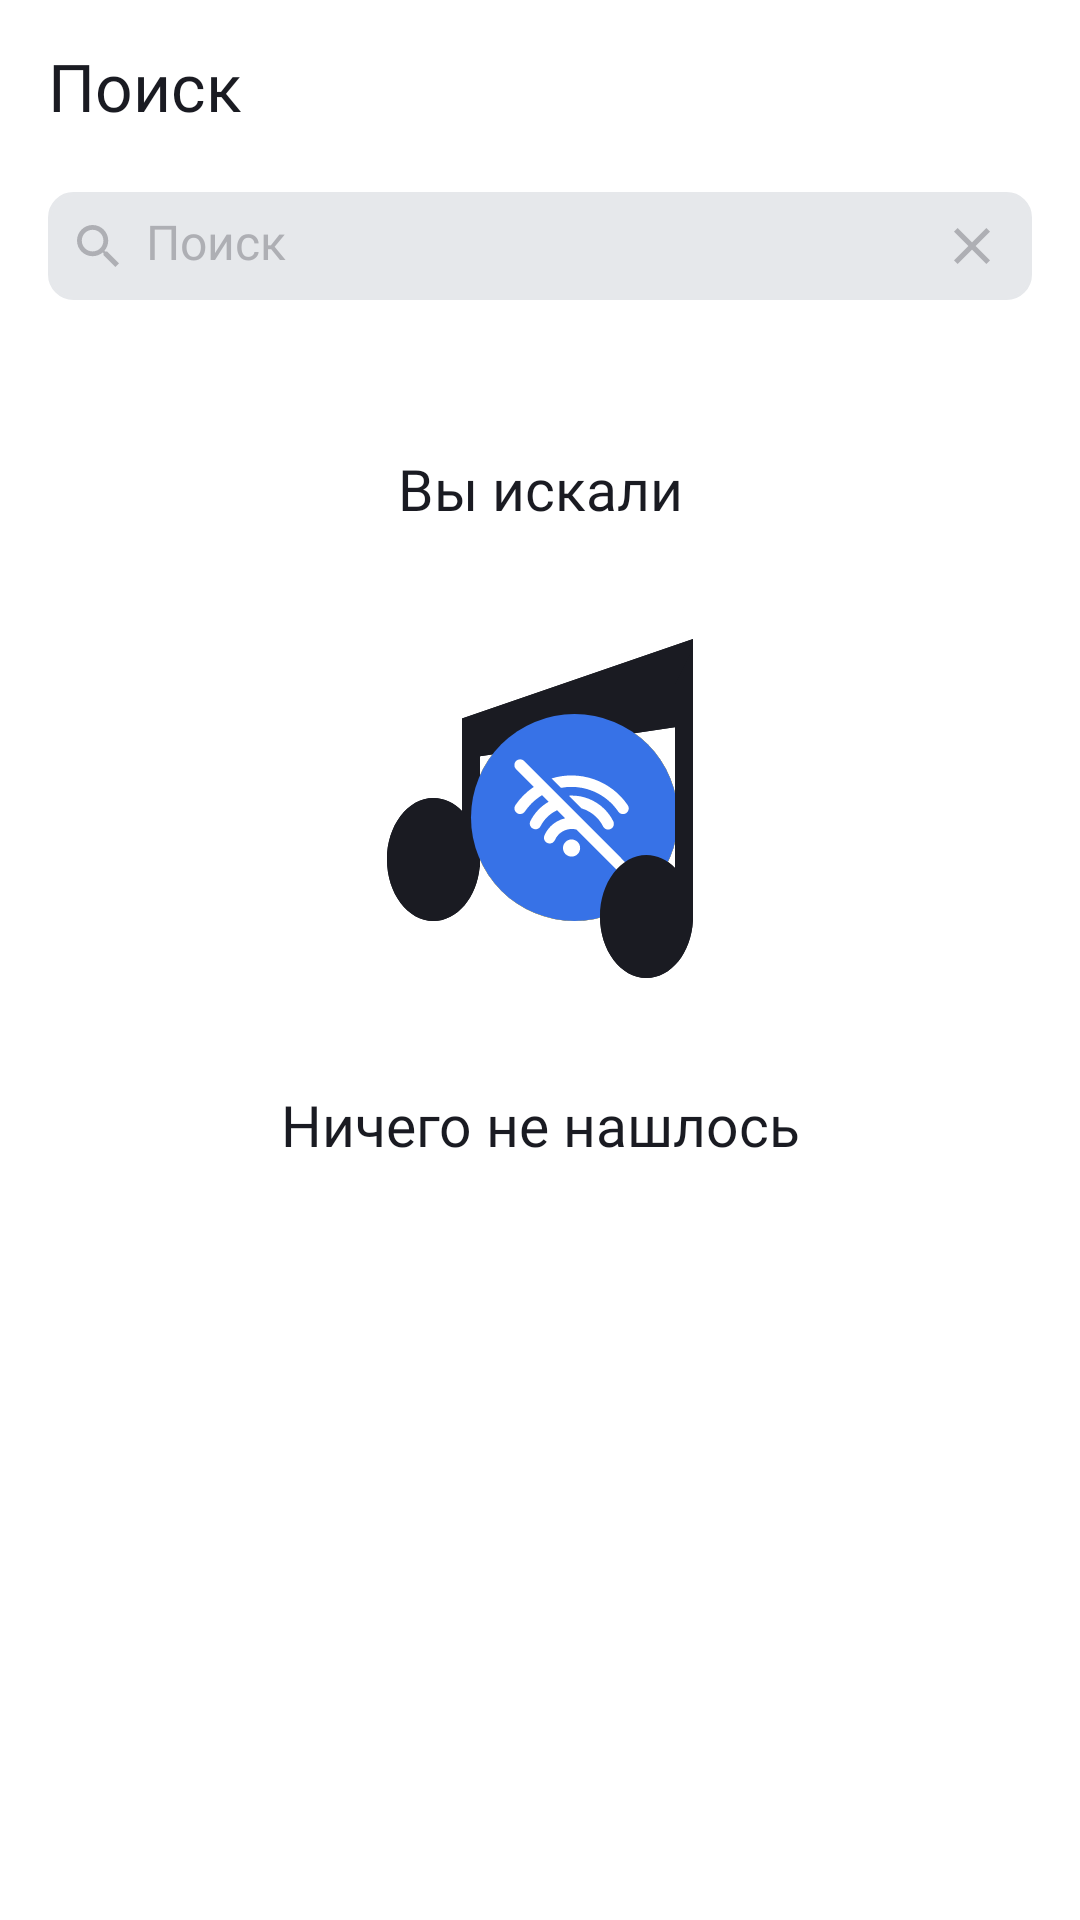

Named icons in this screenshot (1080w x 1920h) and their bounding boxes, (x1, y1, x2, y2):
Очистить текст: (912, 192, 1032, 300)
